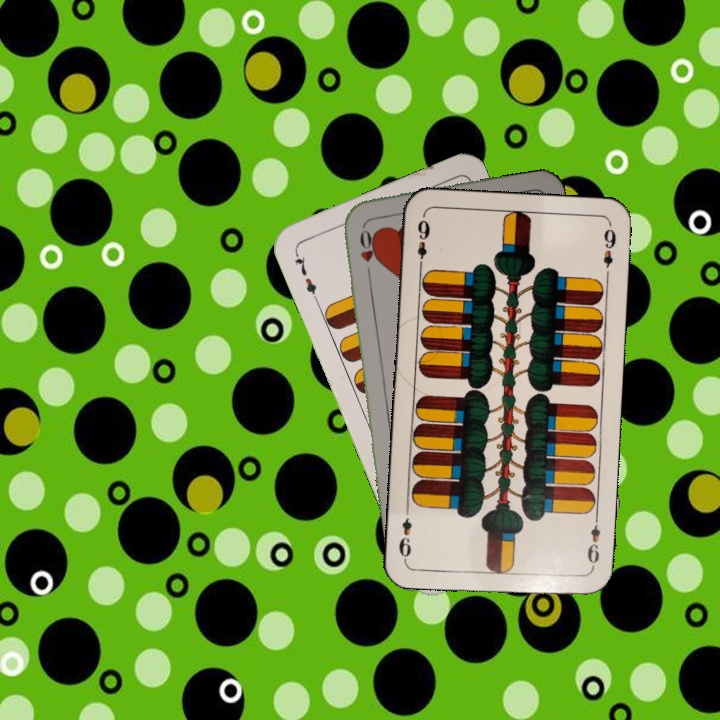E7: (290, 247, 321, 304)
E9: (583, 512, 603, 571), (413, 216, 433, 272)
HO: (355, 221, 378, 280)
